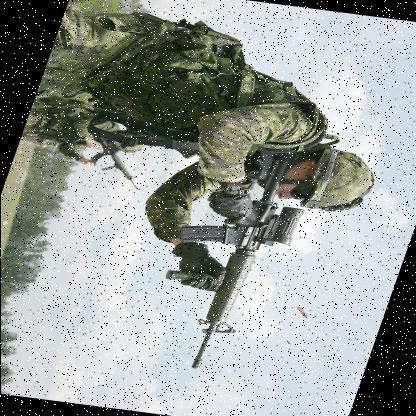rifle: (170, 160, 352, 396)
